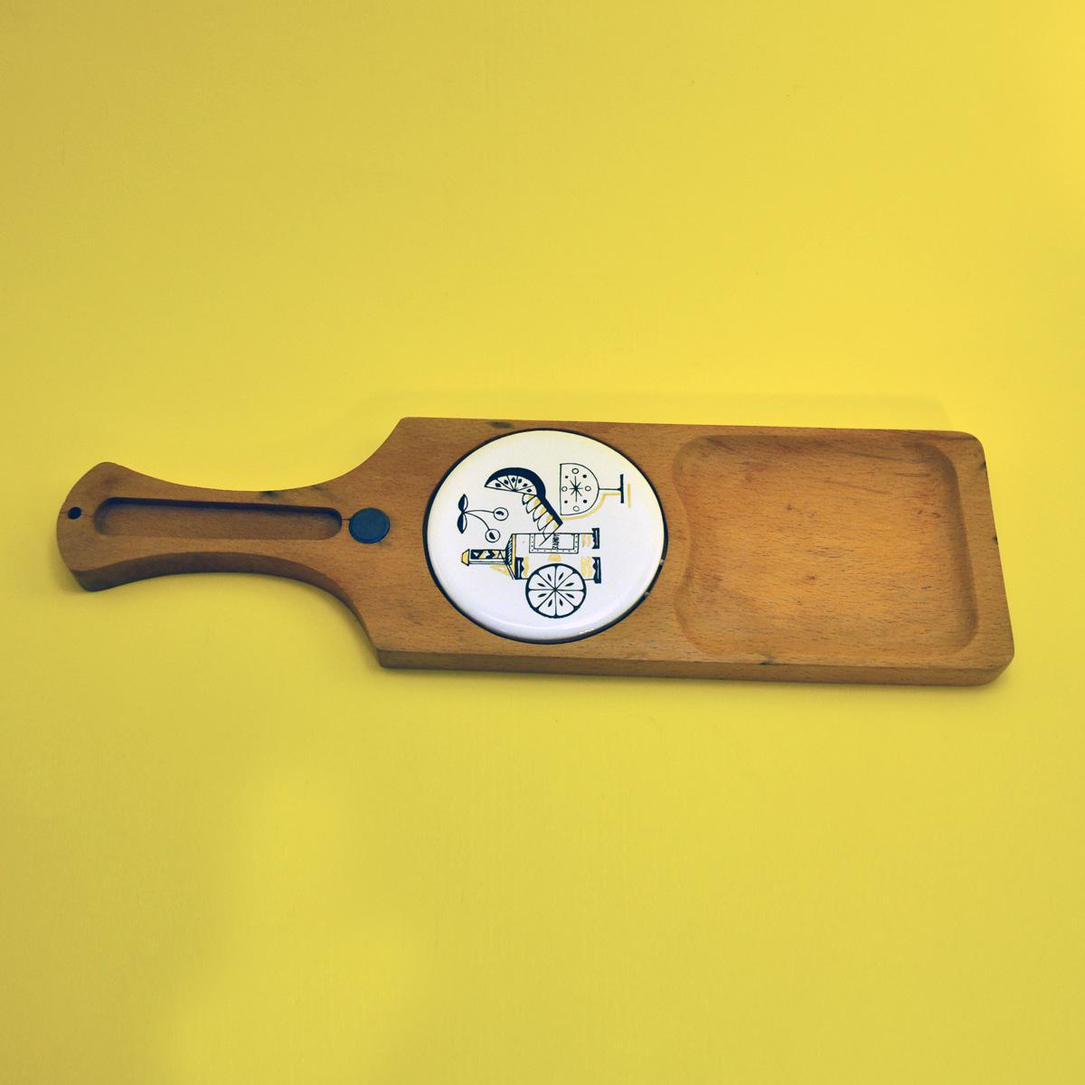gloved_hand: (46, 380, 1037, 710)
